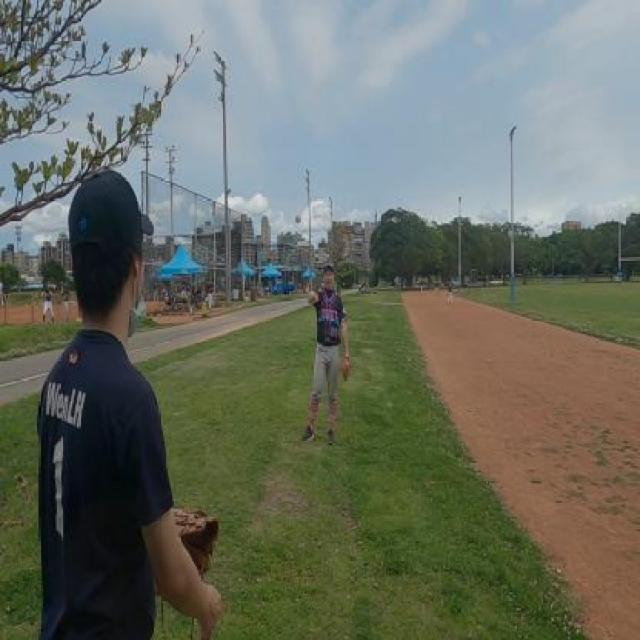baseball: (295, 214, 300, 223)
